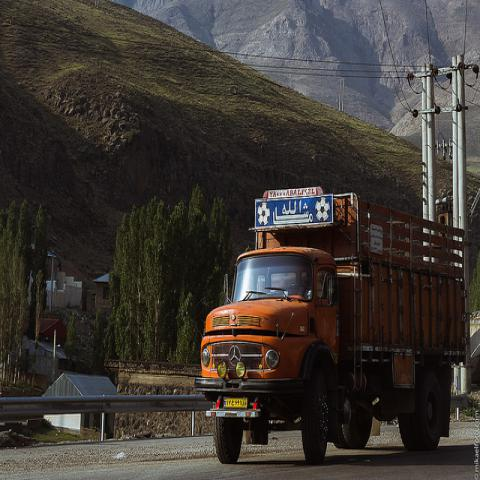truck: (196, 191, 467, 460)
